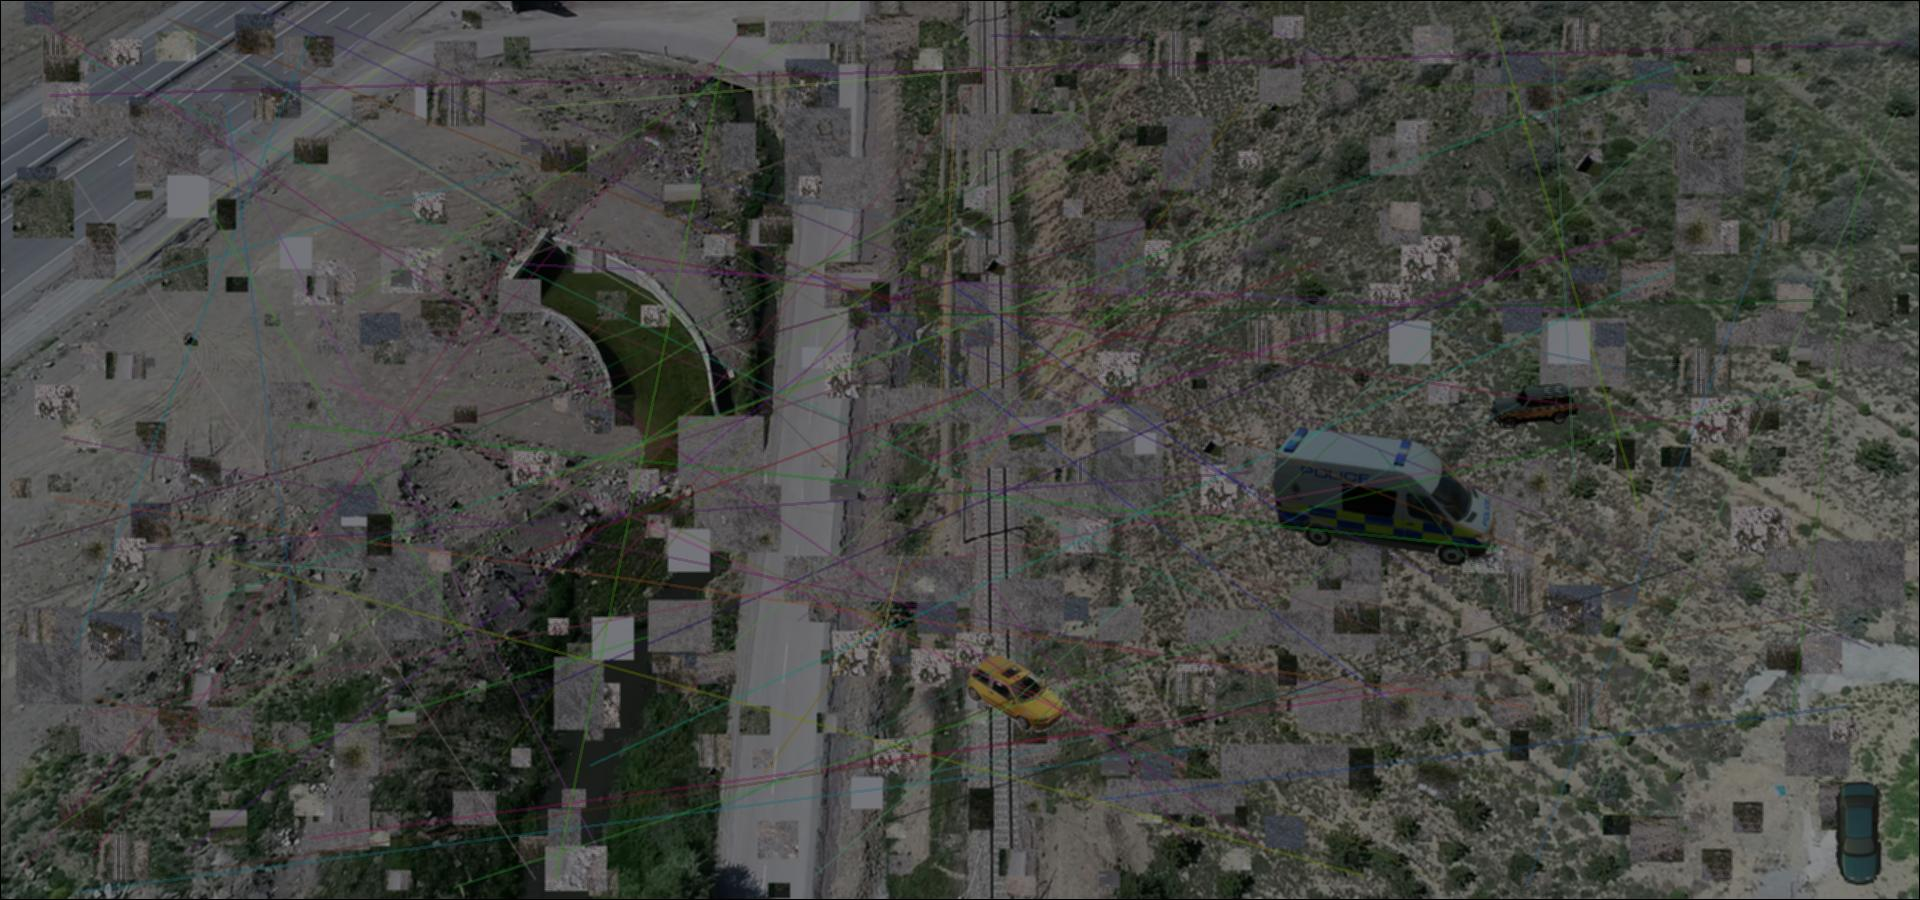arac: (1271, 424, 1496, 564), (967, 653, 1065, 733), (1836, 782, 1881, 885), (1487, 382, 1578, 429)
